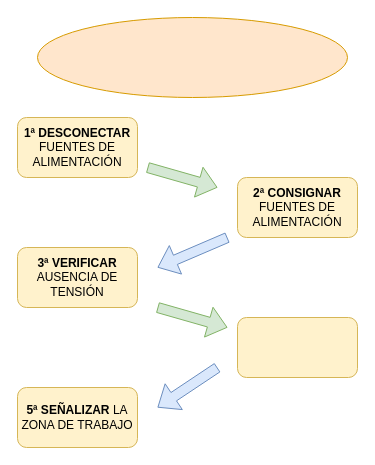
This 375x465 diagram has some shape labels left out. The centre of each missing label's shape, as x and y in pixels:
4ª PUESTA A TIERRA Y EN CORTOCIRCUITO: [297,347]
5 REGLAS DE ORO PARA TRABAJOS SIN TENSIÓN: [192,57]
